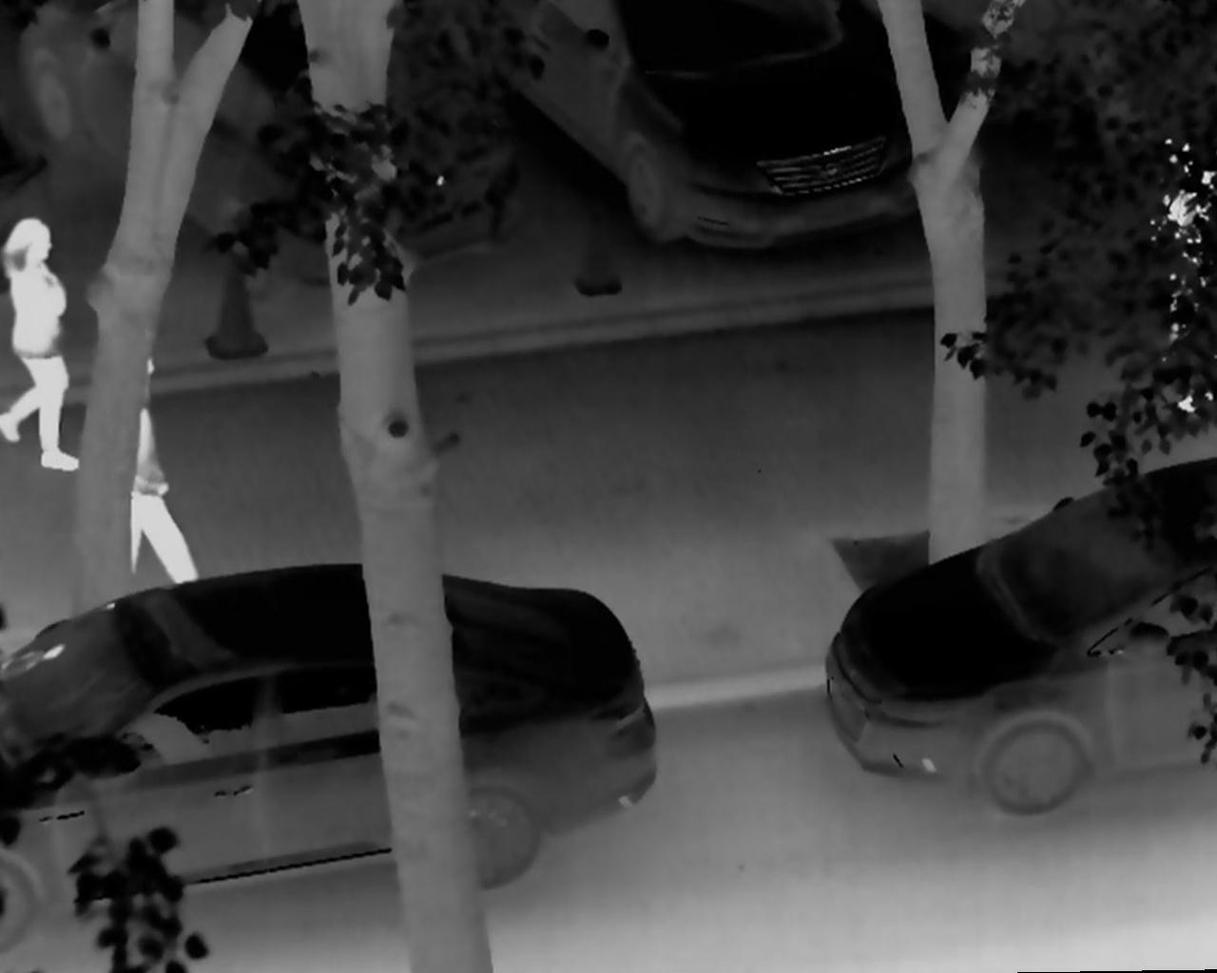person: (101, 334, 203, 596), (1132, 120, 1217, 420), (3, 211, 87, 474)
